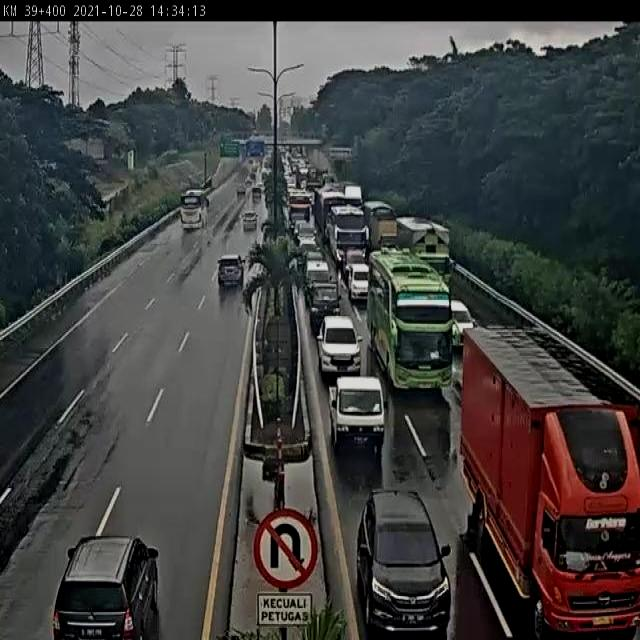Bus: (368, 249, 454, 392), (178, 189, 210, 229)
Car: (358, 488, 453, 640), (52, 529, 162, 640), (316, 316, 365, 374), (217, 253, 246, 287), (241, 212, 259, 230)
Truck: (457, 325, 640, 640)
